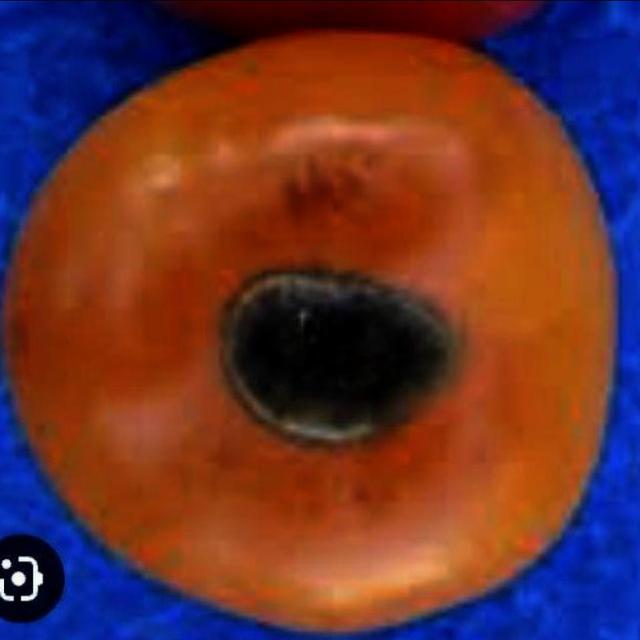Blossom End Rot Fruit: (153, 175, 312, 300)
